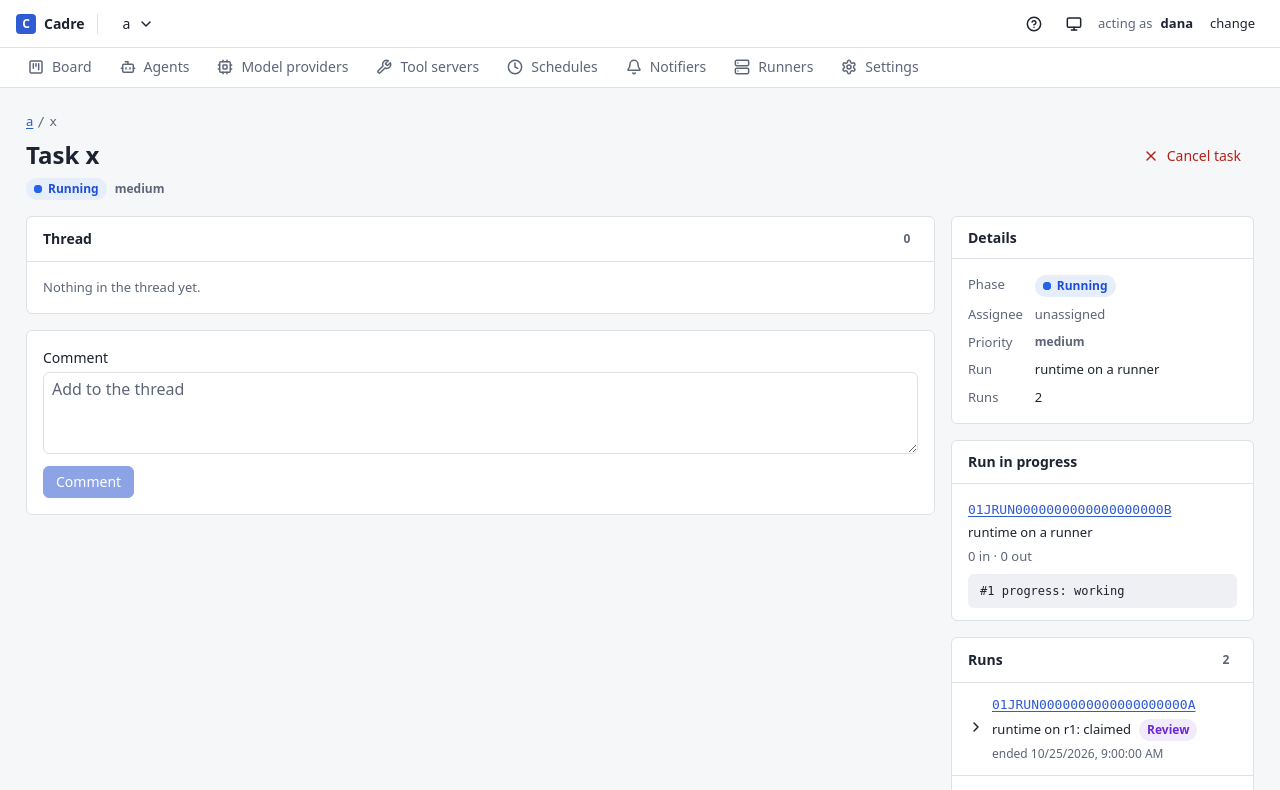
it: A link to a run › opens an ended run when its link on the page is clicked
The width and height of the screenshot is (1280, 790).
Click the link "01JRUN0000000000000000000A": {"x": 1094, "y": 705} 992,695 -> 1196,714
(page scrolled)
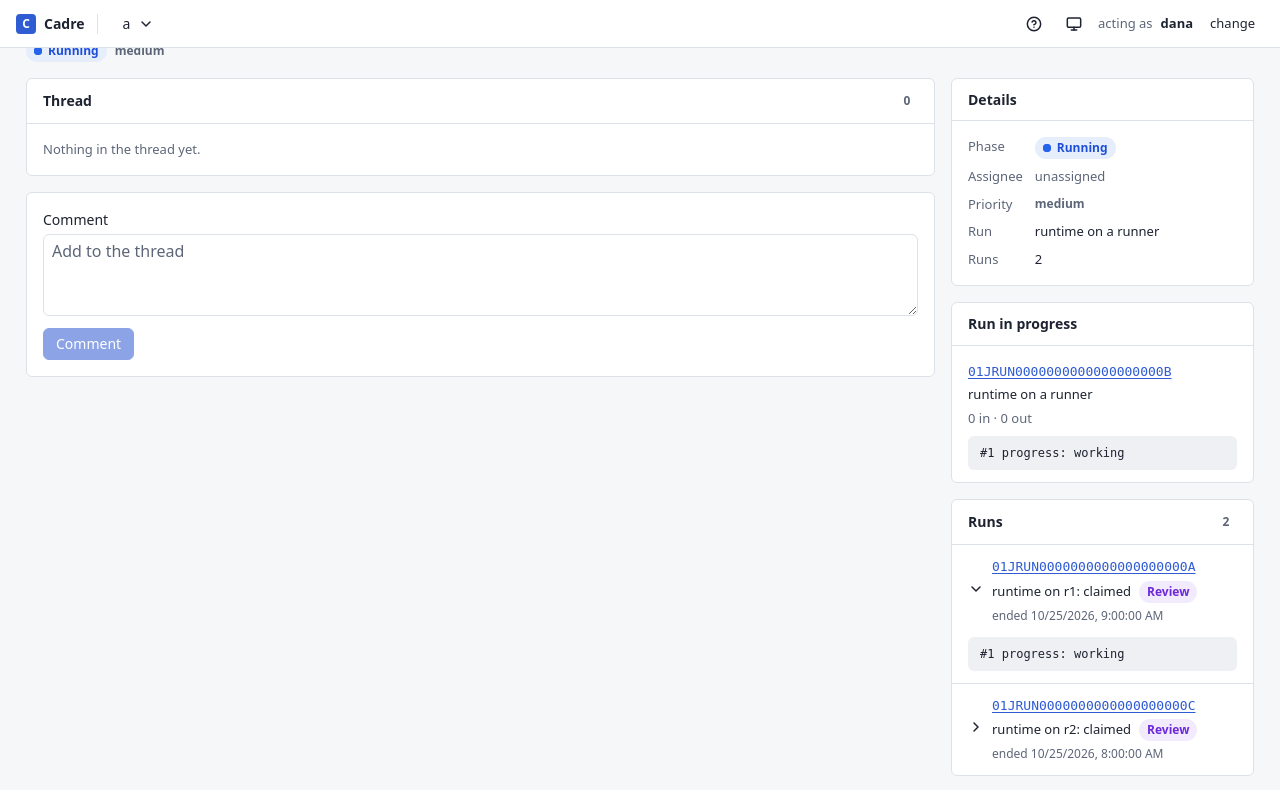
Expected: the button "runtime on r1: claimed Review ended 10/25/2026, 9:00:00 AM" is expanded, 952,545 -> 1253,636
Expected: the list item "runtime on r1" shows "progress: working", 952,545 -> 1253,682
